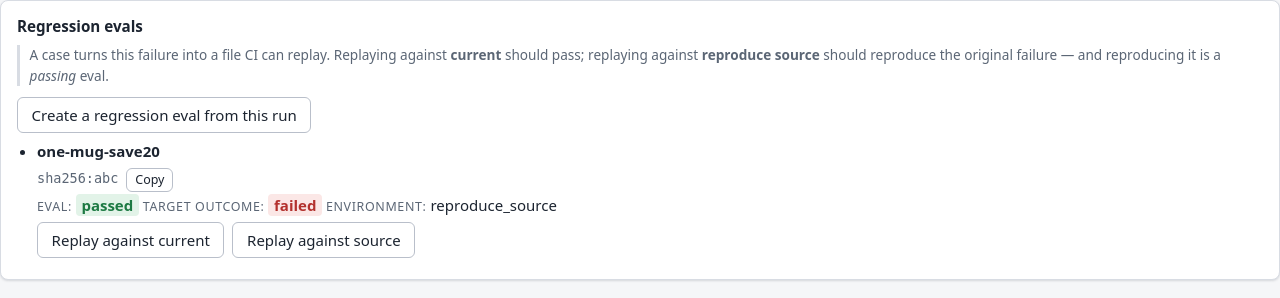
Scenario: EvalPanel (§24.3) › keeps the full content hash in the DOM and copies the whole value
Expected: the text "sha256:abc" is shown, [37,168,118,188]
Click the button with aria-label "copy content hash". click: (150, 180)
box: [126,168,174,192]
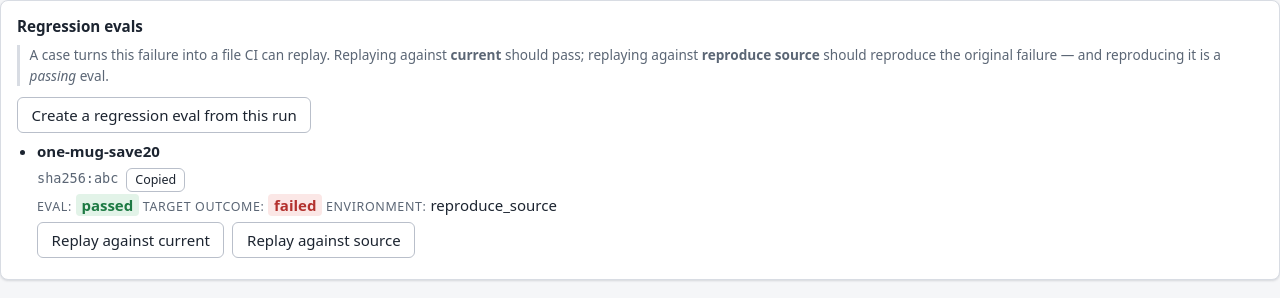
Expected: the button with aria-label "copy content hash" reads "Copied", [126,168,185,192]
